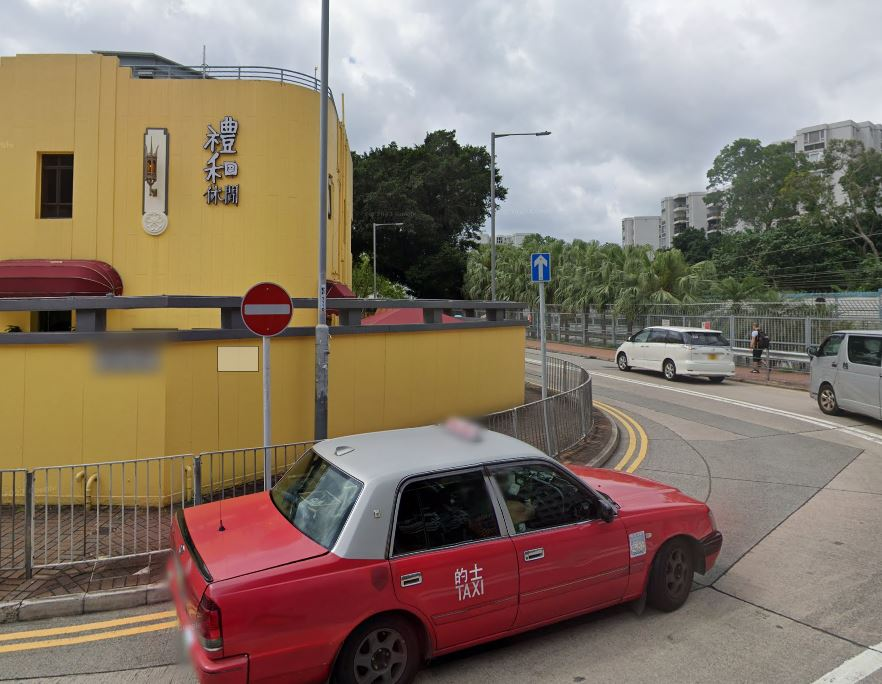No Enter: (242, 279, 293, 334)
One Way Traffic: (532, 251, 551, 286)
